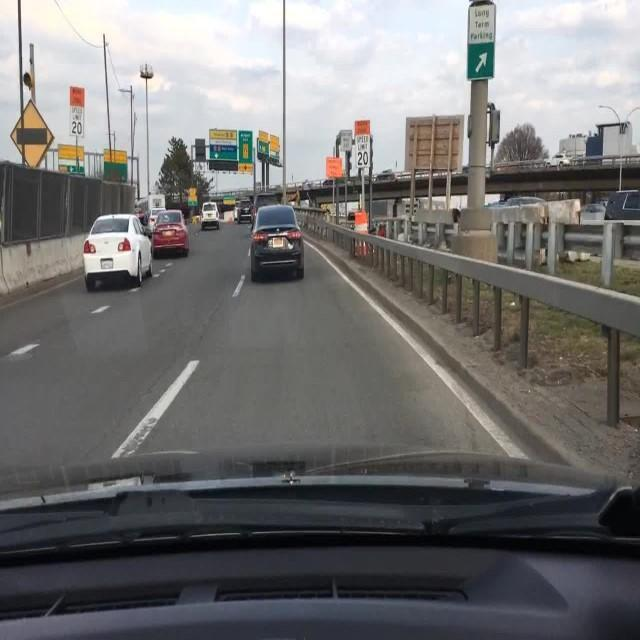normal: (66, 182, 344, 324)
